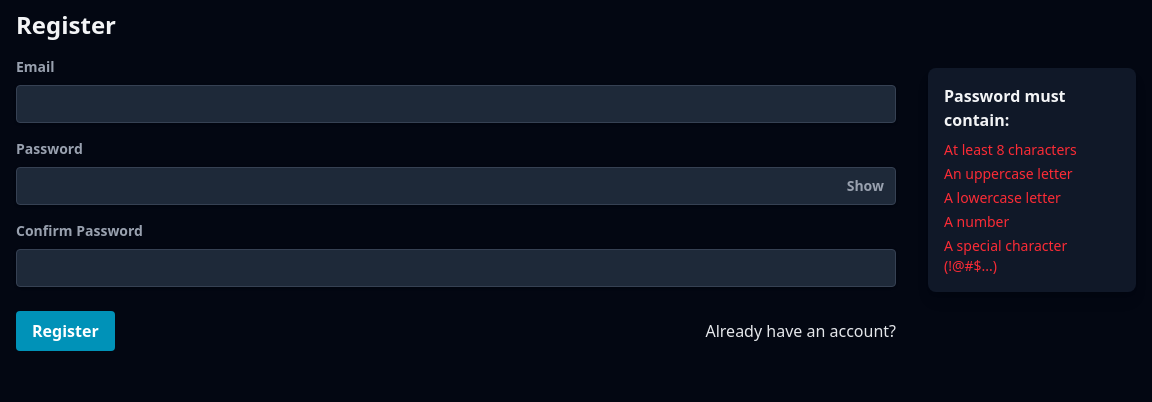
Scenario: RegistrationForm › shows error if passwords do not match
Type "test@example.com" into the field labelled "Email" at x=456, y=104, box [16,85,896,123]
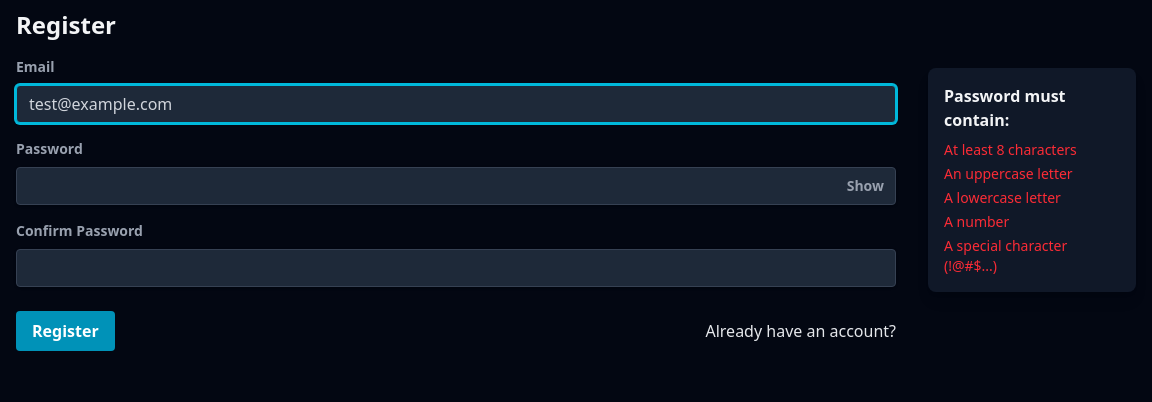
Type "Valid123!" into the password field labelled "Password" at x=456, y=186, box [16,167,896,205]
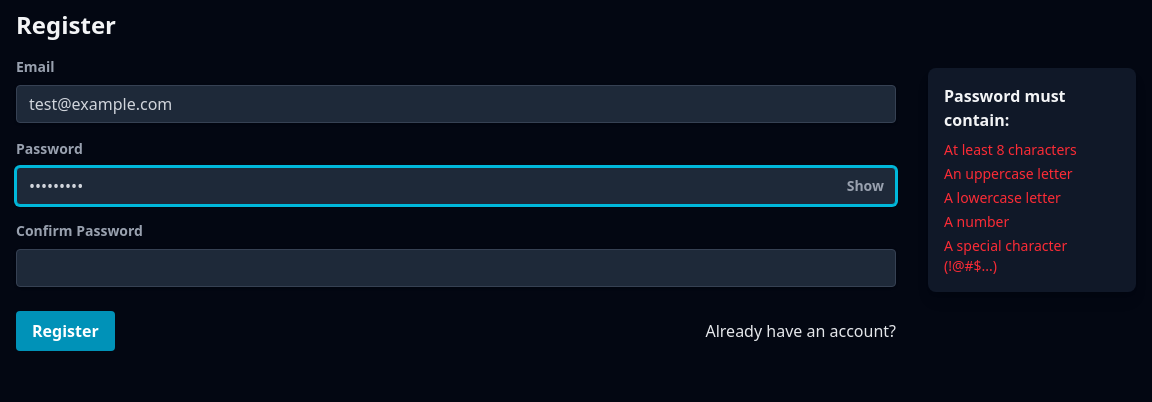
Type "Mismatch123!" into the password field labelled "Confirm Password" at x=456, y=268, box [16,249,896,287]
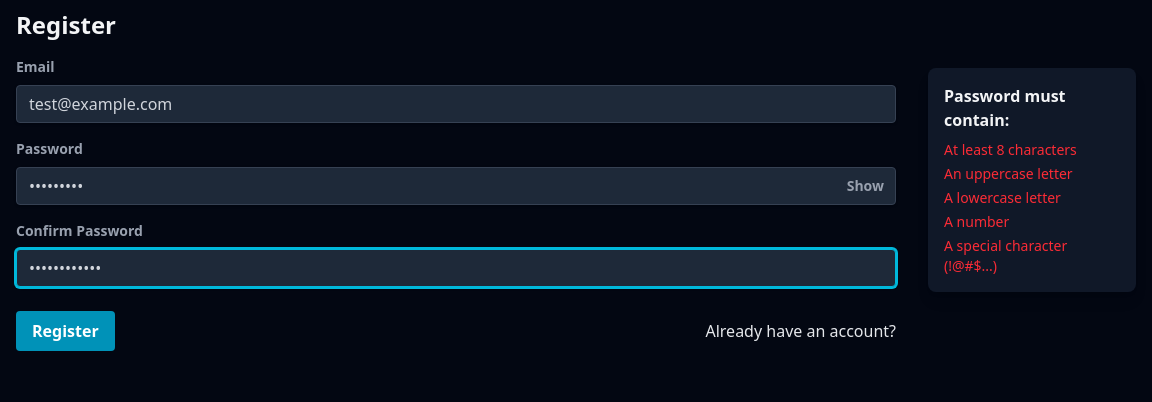
Click the button "Register" at x=65, y=331, box [16,311,115,351]
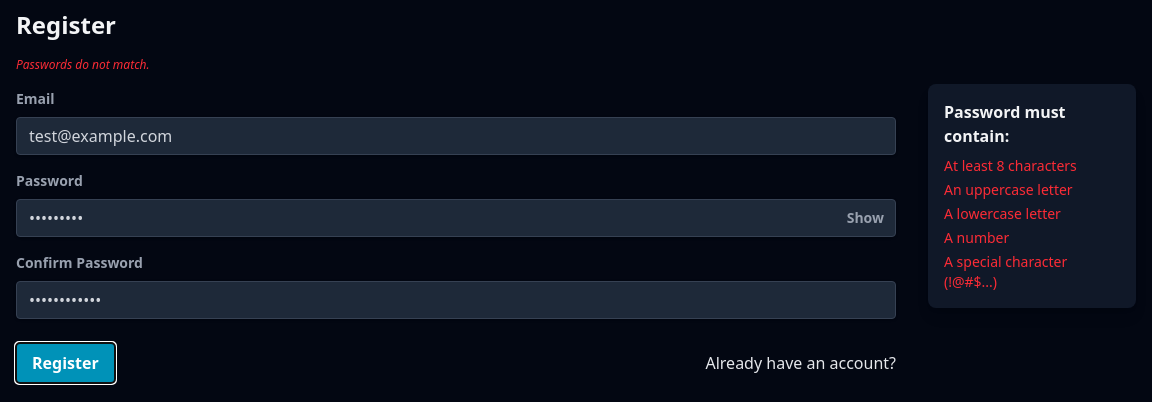
Check: the text "Passwords do not match." is shown, box [16,56,150,73]
